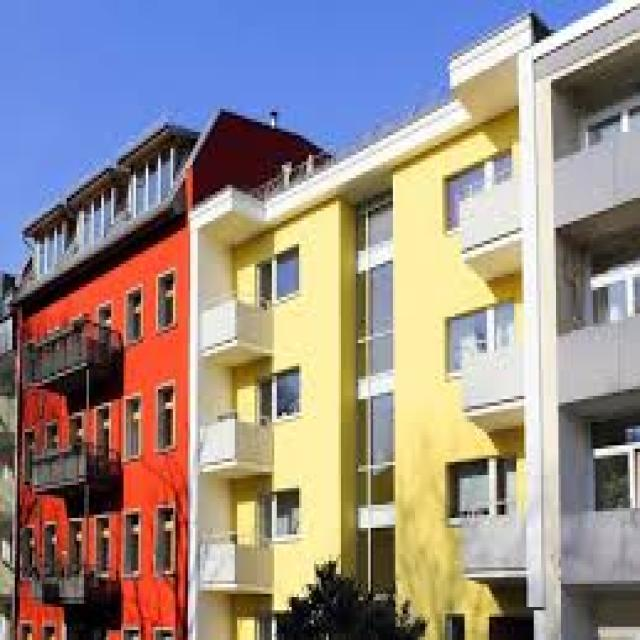window: (124, 142, 176, 224), (72, 184, 116, 250), (264, 366, 299, 422), (267, 254, 301, 304), (34, 221, 66, 274), (272, 482, 294, 538)
